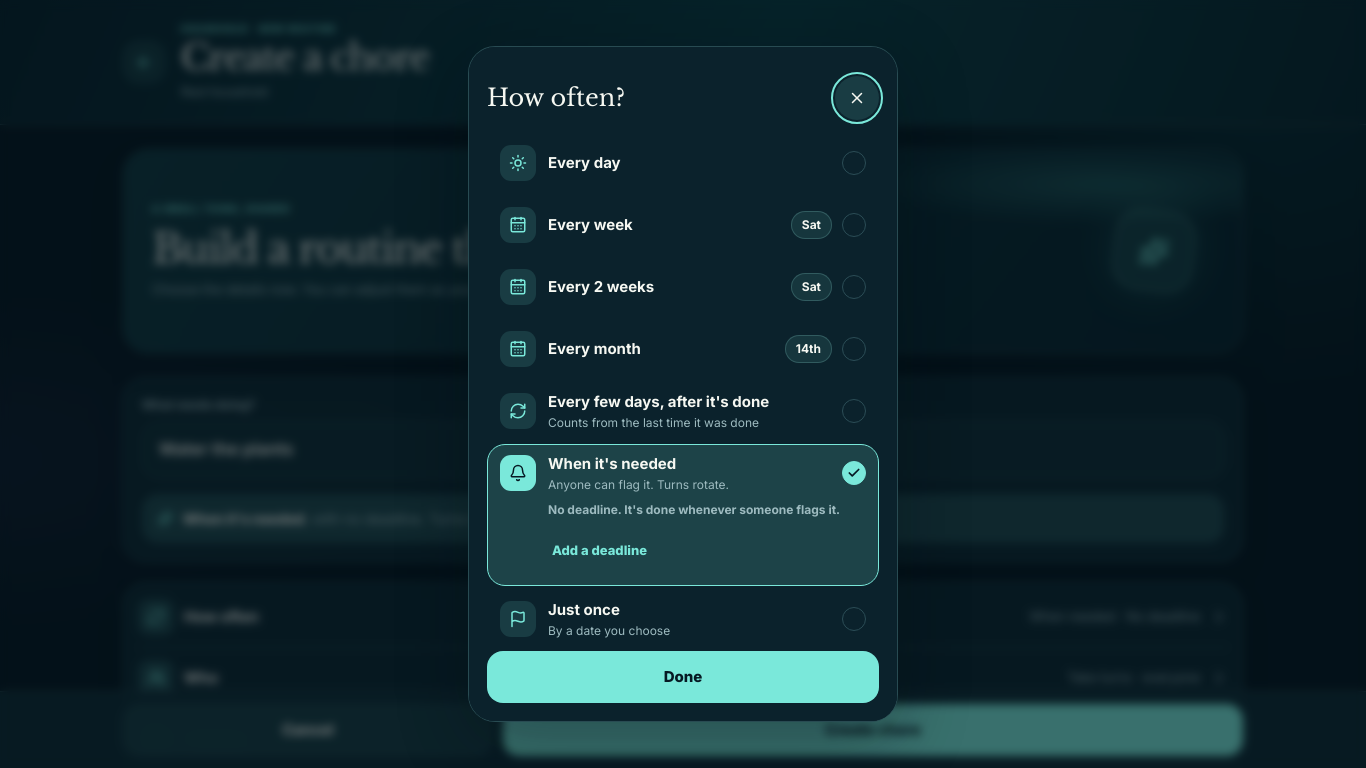
it: ChoreFormScreen · quick create › opens How often with tap-once options and inline settings
Earlier steps of the test are not shown.
Later steps or results of the test are not shown.
Click the button "Done".
click(683, 677)  # box [487,651,879,703]
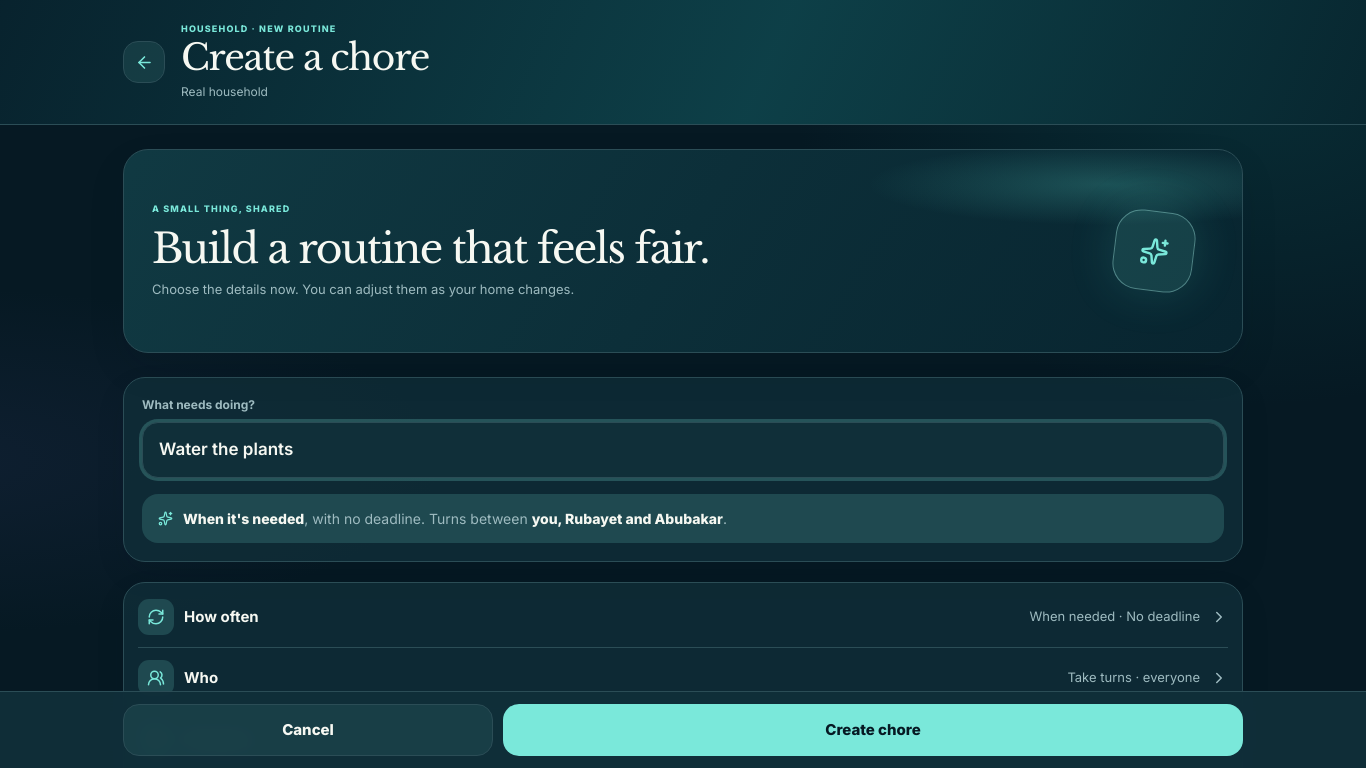
Check: the dialog is gone
